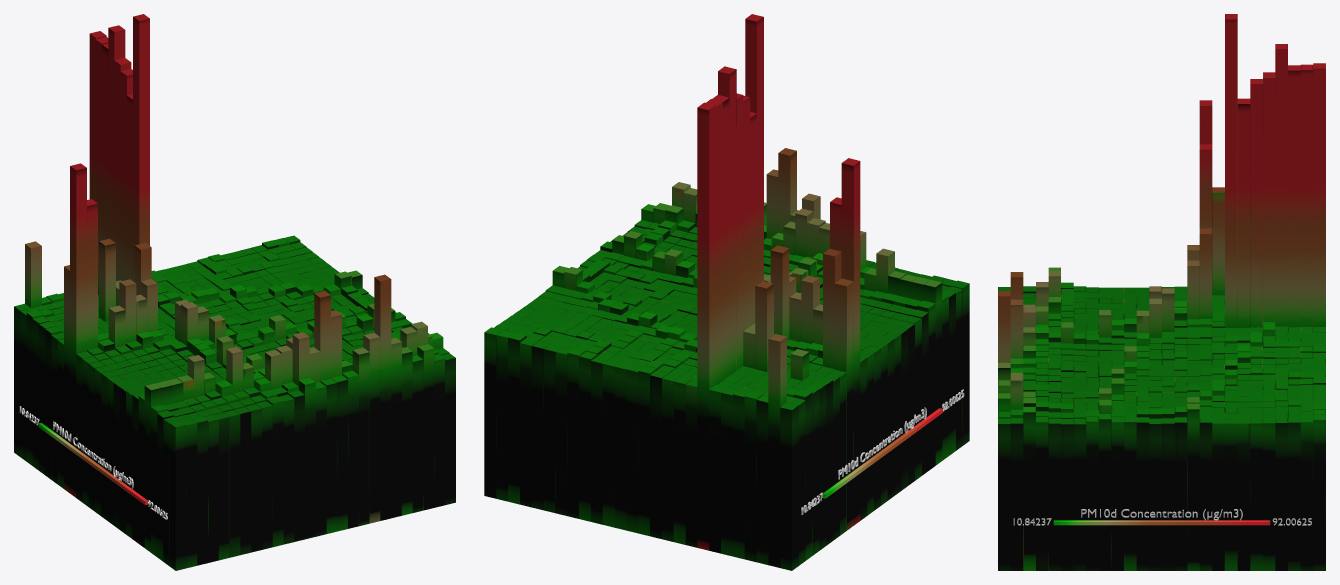
3 renders of one model, left to right at view 1: azimuth 30°, elevation 25°; view 2: azimuth 150°, elevation 25°; view 3: azimuth 270°, elevation 25°, orthographic. The views are drawn at different scales.
Parts seen in each view (by area): view 1: Cube.643, Cube.002, Text.001; view 2: Cube.643, Cube.002, Text.001; view 3: Cube.643, Cube.001, Text.003.
Boxes of the visible parts, left/top/right/bottom form: Cube.643: left=14, top=14, right=455, bottom=570; Cube.002: left=38, top=422, right=148, bottom=504; Text.001: left=53, top=421, right=133, bottom=489; Cube.643: left=484, top=14, right=969, bottom=570; Cube.002: left=822, top=408, right=942, bottom=498; Text.001: left=838, top=407, right=926, bottom=479; Cube.643: left=998, top=14, right=1325, bottom=570; Cube.001: left=1053, top=520, right=1270, bottom=525; Text.003: left=1081, top=509, right=1242, bottom=520.
Bounding box in the file's own units: 51.18 × 76.75 × 50.04.
3 materials, 2 textured.
